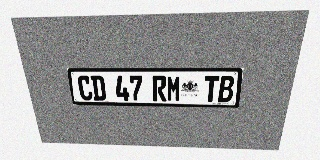4: (114, 76, 130, 101)
7: (128, 76, 143, 101)
B: (218, 76, 235, 102)
C: (77, 75, 93, 100)
D: (90, 75, 106, 101)
M: (167, 76, 181, 102)
R: (152, 76, 166, 101)
T: (203, 76, 220, 102)
